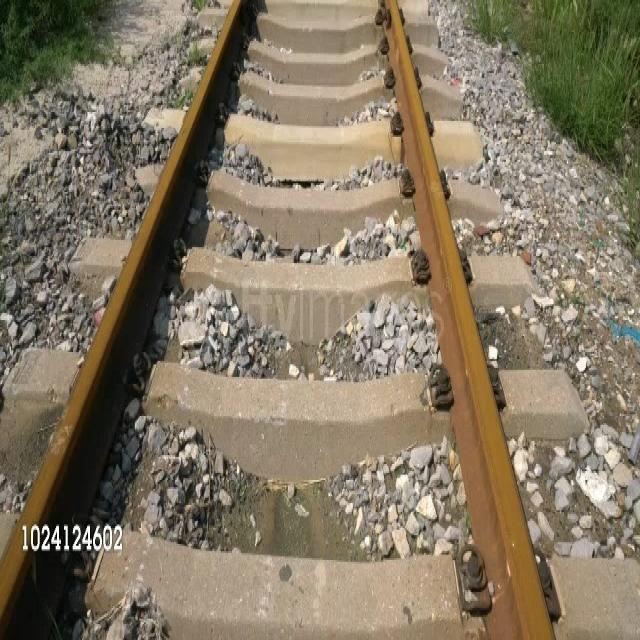Plant: (517, 0, 639, 163), (0, 0, 111, 104), (472, 0, 523, 42), (189, 43, 207, 66), (192, 0, 205, 9)
